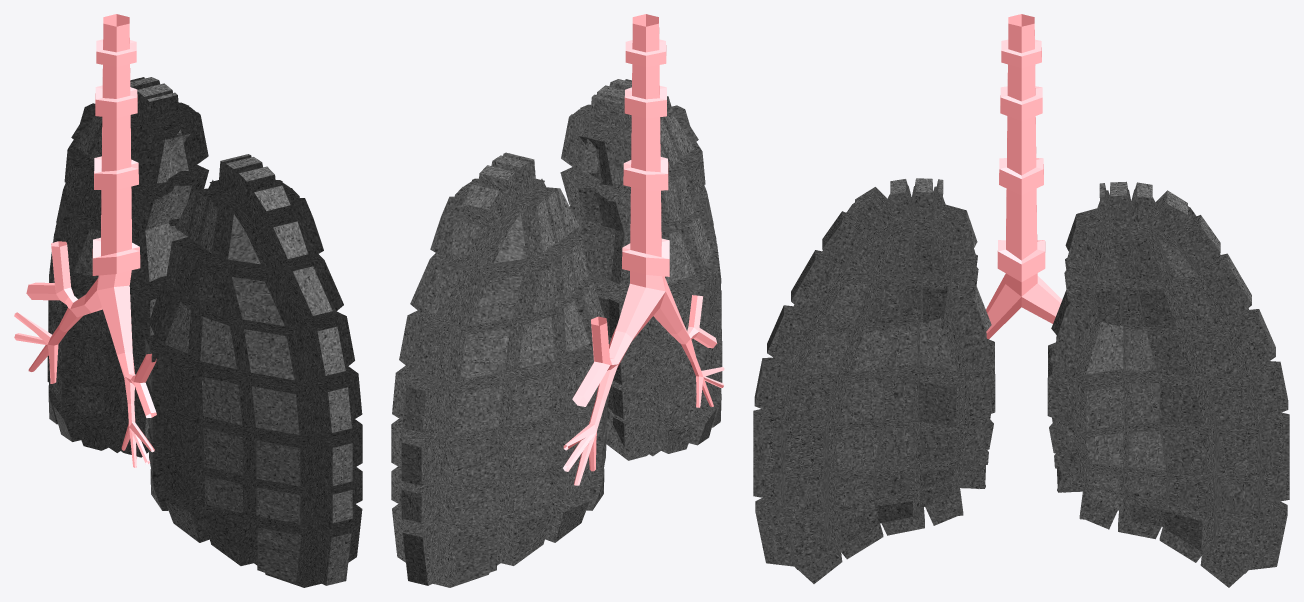
The model's file is lung.glb.
The picture shows the model from 3 angles, left to right: view 1: azimuth 30°, elevation 25°; view 2: azimuth 150°, elevation 25°; view 3: azimuth 270°, elevation 25°; orthographic projection.
Visible parts, largest first — view 1: lunge_fluegel, ader_lunge; view 2: lunge_fluegel, ader_lunge; view 3: lunge_fluegel, ader_lunge.
Boxes of the visible parts, box(x1,y1,x2,y2) form: lunge_fluegel: box(47, 77, 362, 587); ader_lunge: box(14, 14, 156, 467); lunge_fluegel: box(391, 79, 722, 587); ader_lunge: box(563, 14, 724, 485); lunge_fluegel: box(753, 178, 1289, 587); ader_lunge: box(986, 14, 1062, 339).
Bounding box in the file's own units: 1.09 × 3.14 × 2.97.
Materials: 2 (1 with a texture image).
